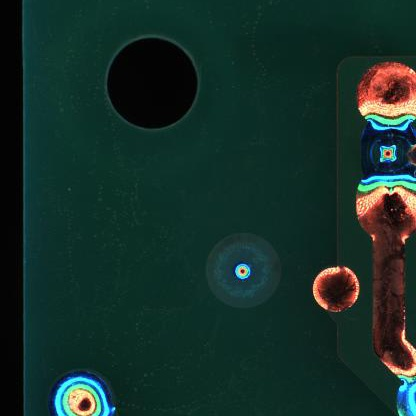spot: (359, 111, 416, 187), (51, 370, 113, 416)
